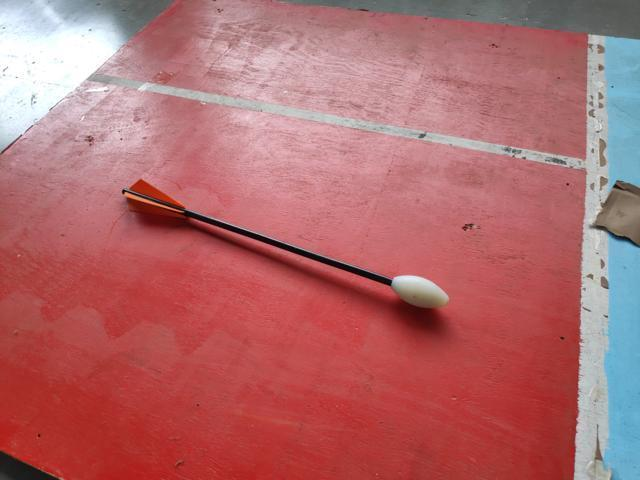Head: (390, 271, 450, 309)
Tail: (118, 176, 189, 217)
